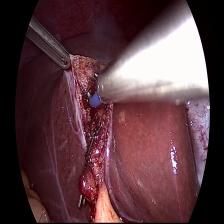Bipolar: (85, 66, 109, 118)
Grasper: (25, 16, 76, 78)
